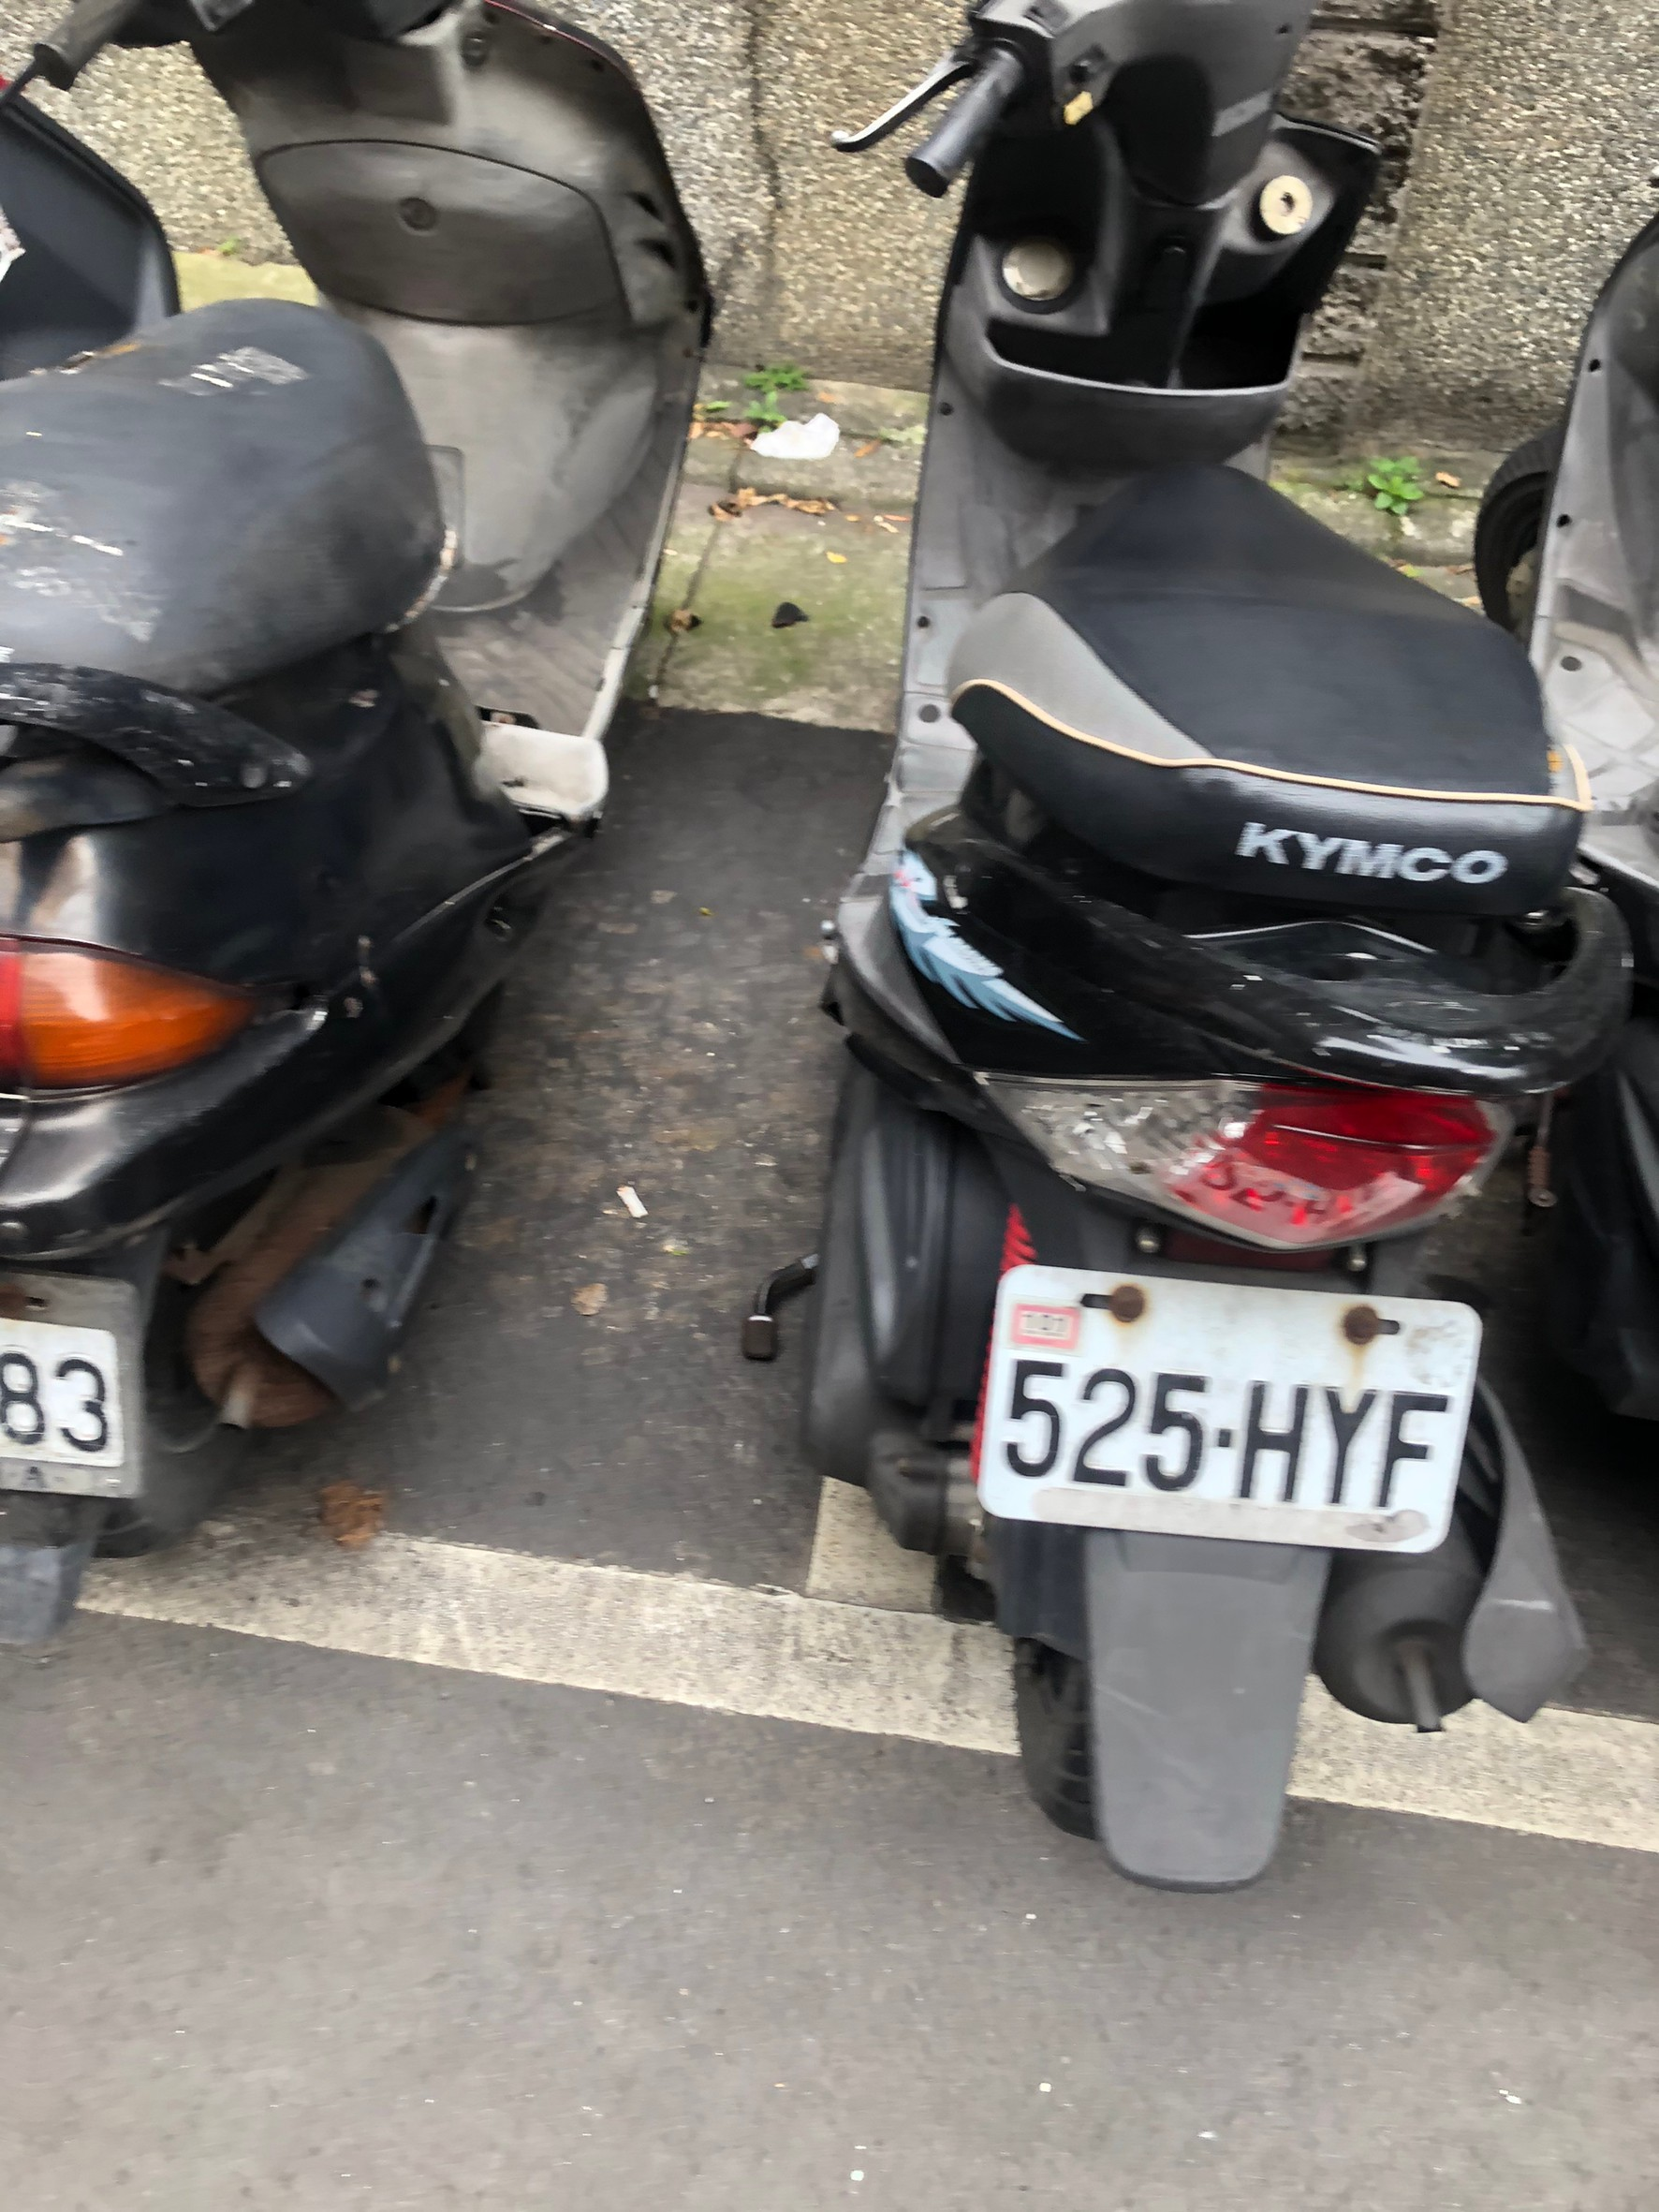LP: (961, 1260, 1483, 1558)
